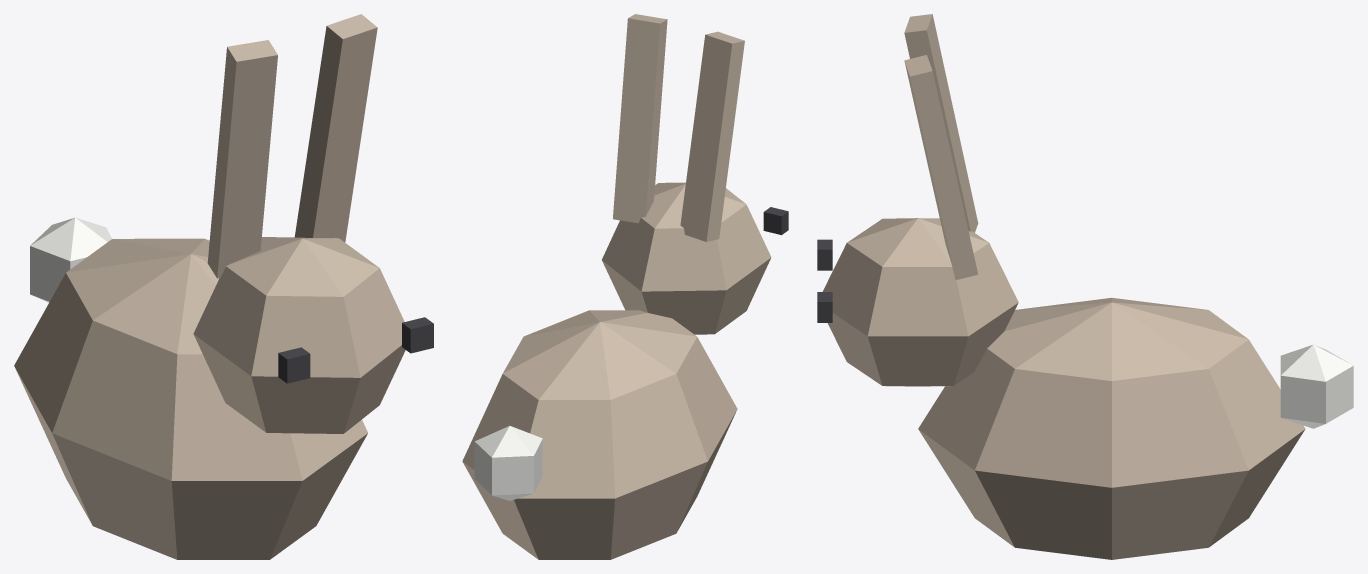
Rendered from rabbit.glb.
3 views of the same model, side by side, from view 1: azimuth 30°, elevation 25°; view 2: azimuth 150°, elevation 25°; view 3: azimuth 270°, elevation 25° (orthographic). The views are drawn at different scales.
Visible parts, largest first — view 1: rabbit; view 2: rabbit; view 3: rabbit.
Part boxes in pixels (left/top/right/bottom): rabbit: left=14, top=14, right=433, bottom=559; rabbit: left=462, top=14, right=788, bottom=559; rabbit: left=817, top=14, right=1353, bottom=559.
Size of the model in its own units: 0.36 by 0.73 by 0.692.
